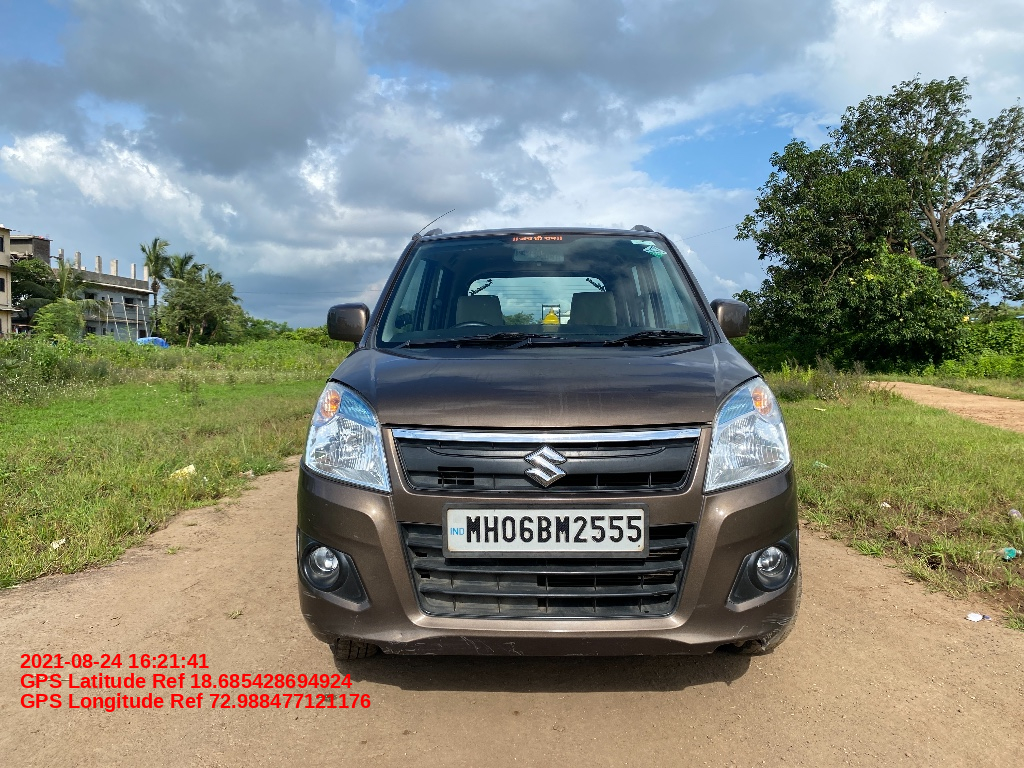Scratched: (381, 628, 528, 657), (735, 588, 800, 651), (301, 588, 323, 635), (344, 611, 364, 633)
